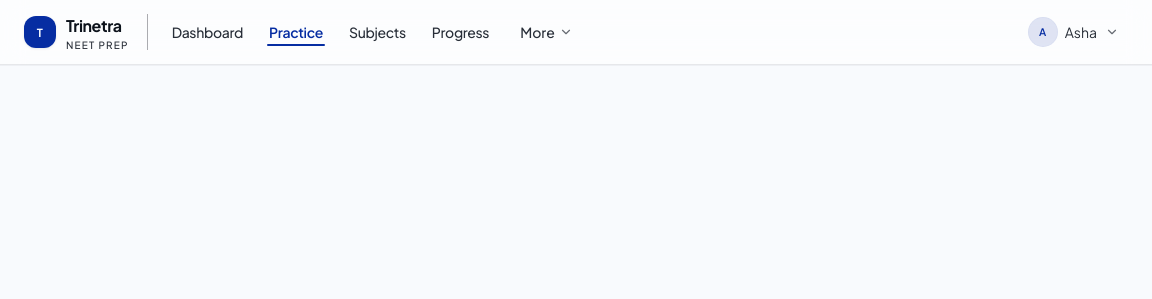
Scenario: Phase A9 account menu › shows initials avatar and opens Profile, Settings, Sign out
Check: the text "A" is shown, box [1029,18,1057,46]
Click the button with aria-label "Account menu": (1074, 32) [1020,10,1128,54]
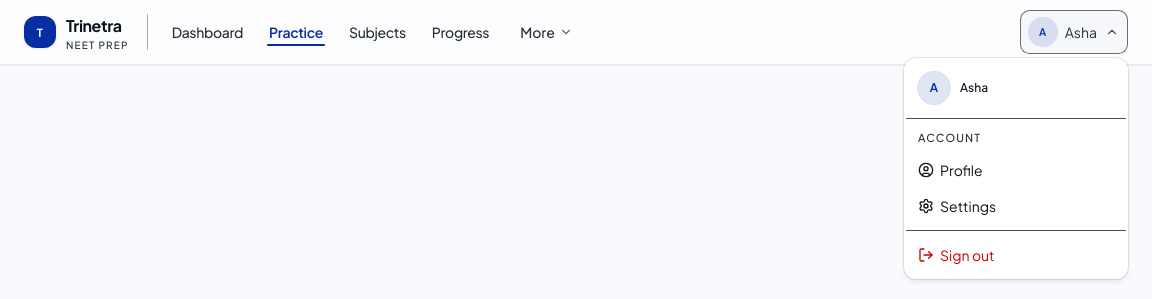
Check: the menu item "Profile" is shown, box [918,161,983,179]
Check: the menu item "Settings" is shown, box [918,197,996,215]
Check: the menu item "Sign out" is shown, box [918,246,994,264]
